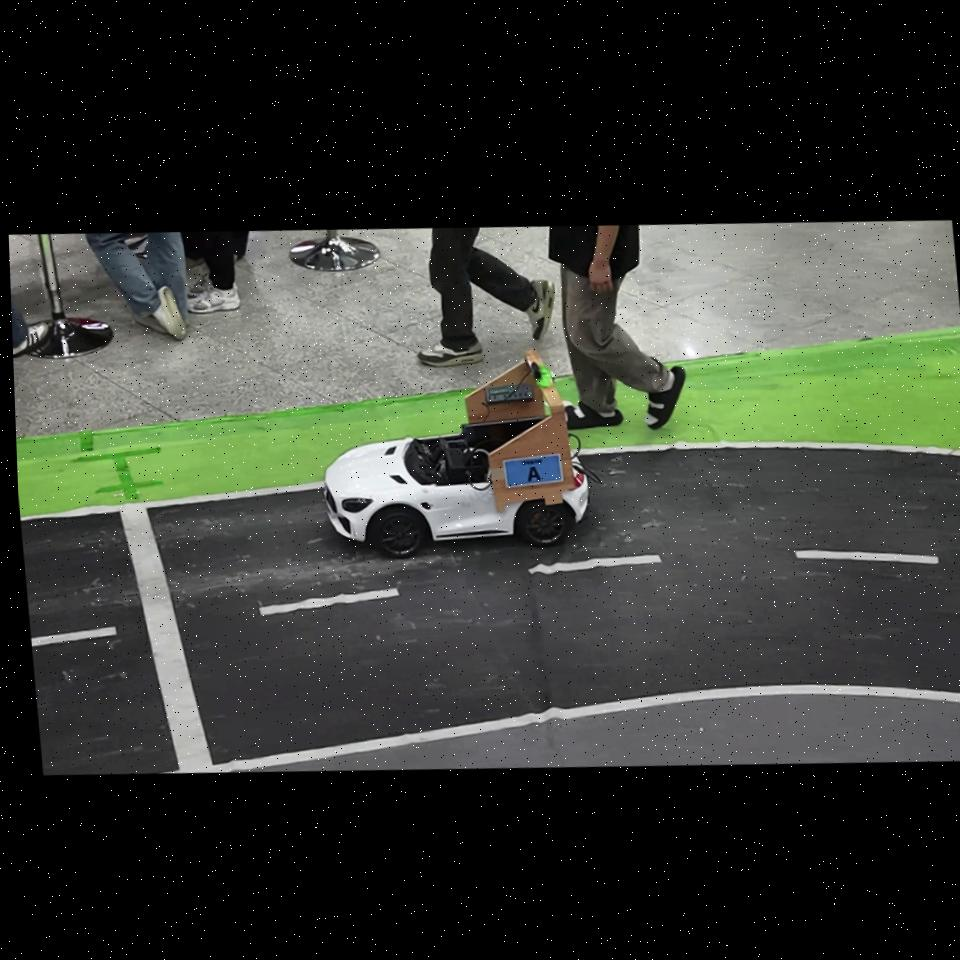broken_line: (259, 588, 400, 616), (528, 554, 661, 574), (795, 550, 939, 564), (31, 626, 117, 647)
